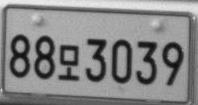0: (110, 37, 133, 84)
3: (134, 39, 158, 85), (84, 37, 107, 82)
8: (33, 34, 56, 80), (8, 33, 31, 78)
9: (160, 40, 184, 86)
모: (57, 44, 80, 81)
